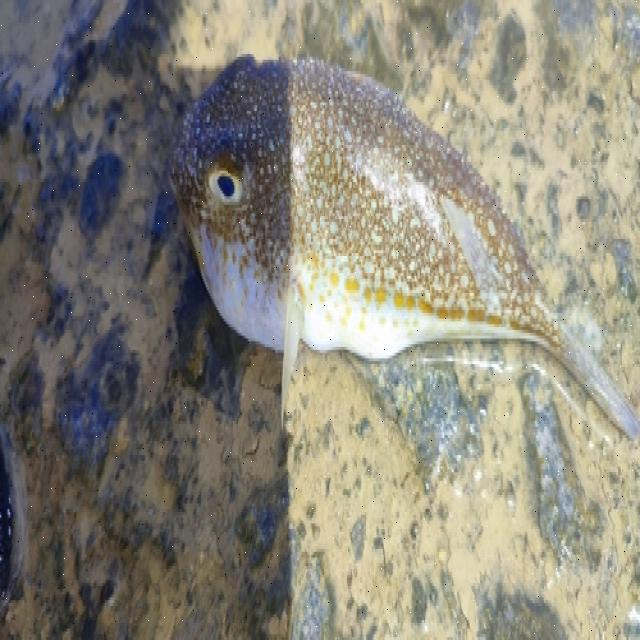Balik: (172, 57, 639, 438)
